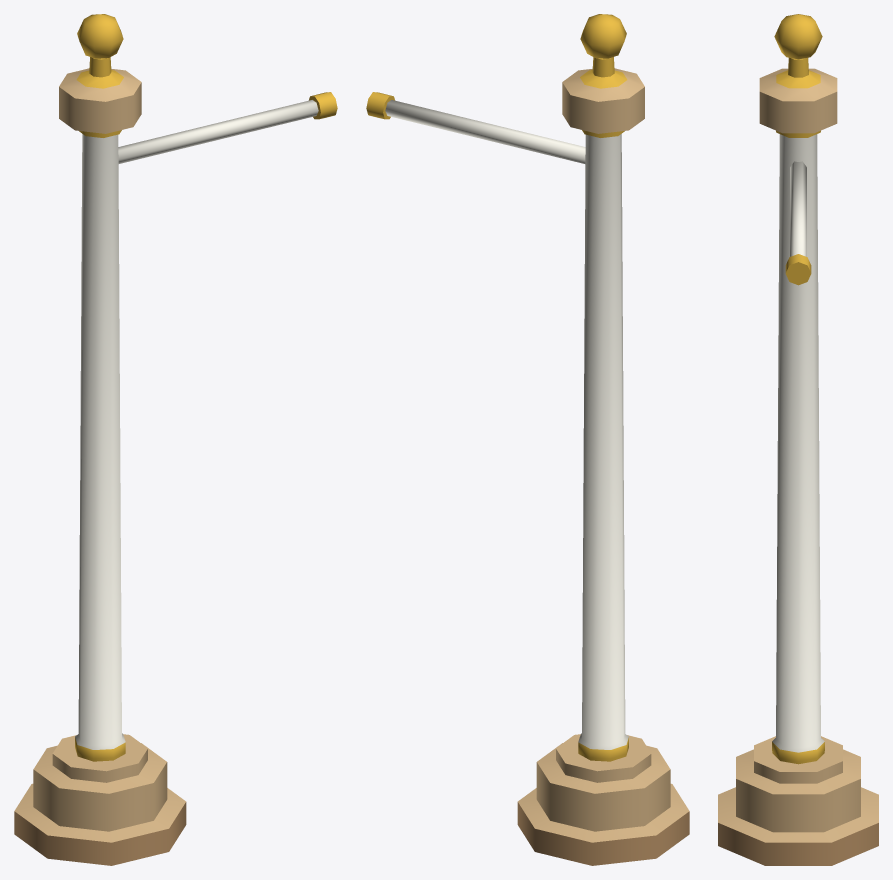
Rendered from banner-pole.lod1.glb.
The picture shows the model from 3 angles, left to right: view 1: azimuth 30°, elevation 25°; view 2: azimuth 150°, elevation 25°; view 3: azimuth 270°, elevation 25°; orthographic projection.
Visible parts, largest first — view 1: banner-pole_lod1; view 2: banner-pole_lod1; view 3: banner-pole_lod1.
Boxes of the visible parts, left/top/right/bottom form: banner-pole_lod1: left=14, top=14, right=337, bottom=865; banner-pole_lod1: left=366, top=14, right=689, bottom=865; banner-pole_lod1: left=718, top=14, right=878, bottom=865.
Bounding box in the file's own units: 1.08 × 2.8 × 0.4989.
